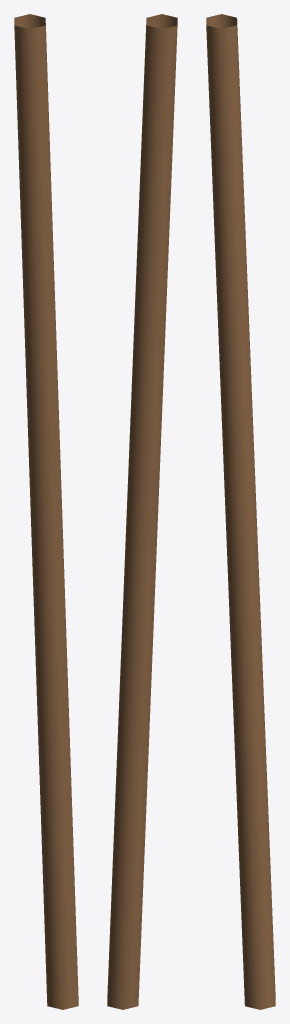
File: root_splitter_0.glb
3 renders of one model, left to right at view 1: azimuth 30°, elevation 25°; view 2: azimuth 150°, elevation 25°; view 3: azimuth 330°, elevation 25°, orthographic.
Visible parts, largest first — view 1: root_splitter_0; view 2: root_splitter_0; view 3: root_splitter_0.
Part boxes in pixels (left/top/right/bottom): root_splitter_0: left=14, top=14, right=78, bottom=1009; root_splitter_0: left=107, top=14, right=177, bottom=1009; root_splitter_0: left=206, top=14, right=275, bottom=1009.
Size of the model in its own units: 0.045 by 0.6322 by 0.0218.
